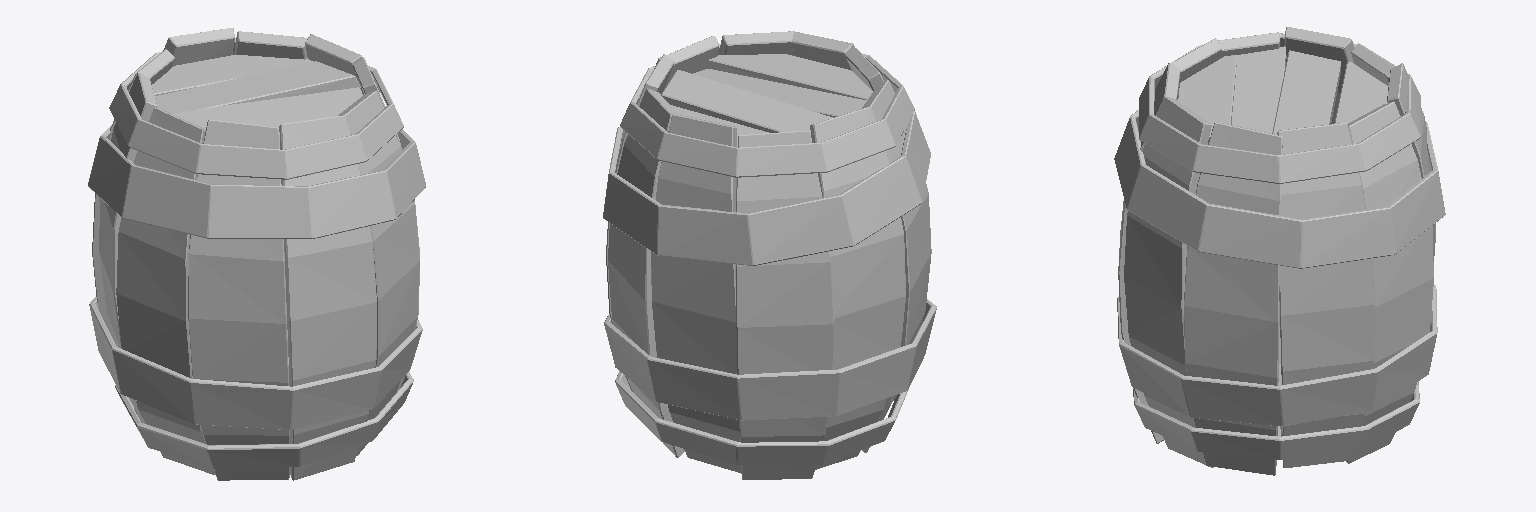
The model's file is barrel.obj.
3 views of the same model, side by side, from view 1: azimuth 30°, elevation 25°; view 2: azimuth 150°, elevation 25°; view 3: azimuth 270°, elevation 25° (orthographic).
Visible parts, largest first — view 1: Cube.012; view 2: Cube.012; view 3: Cube.012.
Boxes of the visible parts, x1=… form: Cube.012: x1=88, y1=28, x2=425, y2=480; Cube.012: x1=603, y1=31, x2=936, y2=479; Cube.012: x1=1114, y1=27, x2=1445, y2=475.
Size of the model in its own units: 2.21 by 2.6 by 2.17.